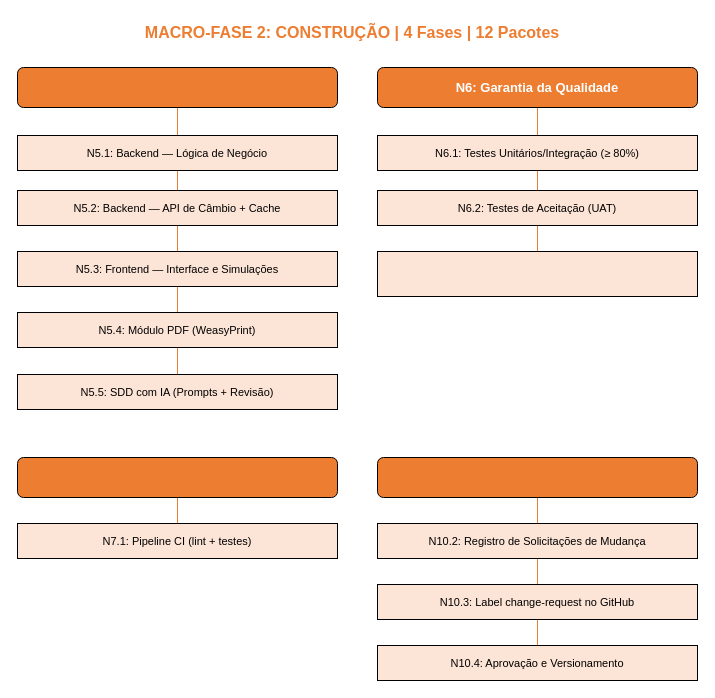
Image size: 715x698. Some labels were removed from this diagram. The shapes that lost their labels are listed below. From the top down, each one's box as (x1, y1, x2, y2) in pixels, then its label:
(16, 66, 338, 108): N5: Desenvolvimento do Sistema
(376, 250, 698, 296): N6.3: Aplicação de Ferramentas da Qualidade (12 PDCAs + Ishikawa 6M)
(16, 456, 338, 498): N7: DevOps e CI/CD
(376, 456, 698, 498): N10: Gestão de Mudanças
